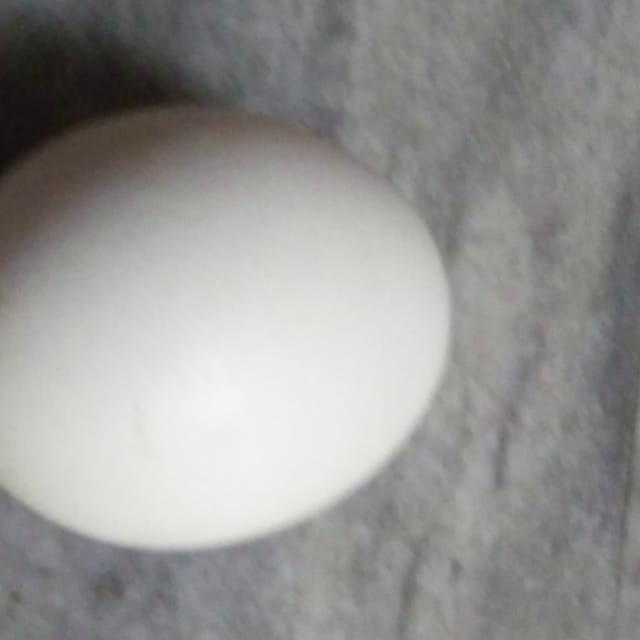egg: (0, 98, 456, 555)
